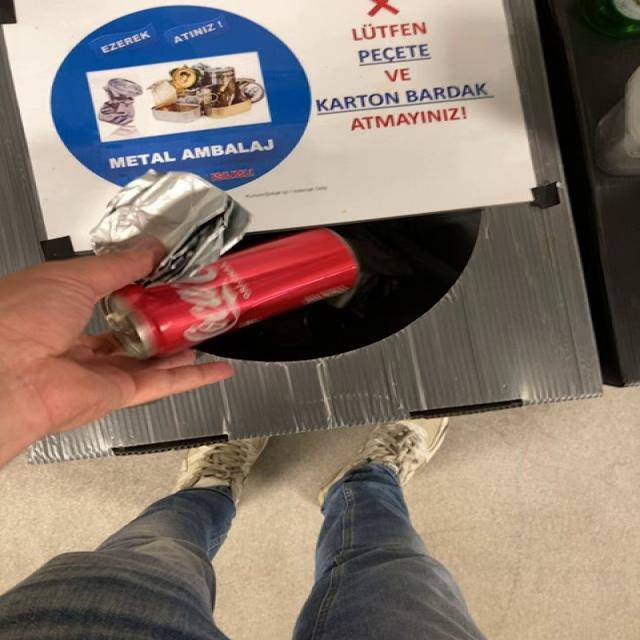Bin: (1, 0, 601, 464)
Metal: (104, 228, 359, 360)
